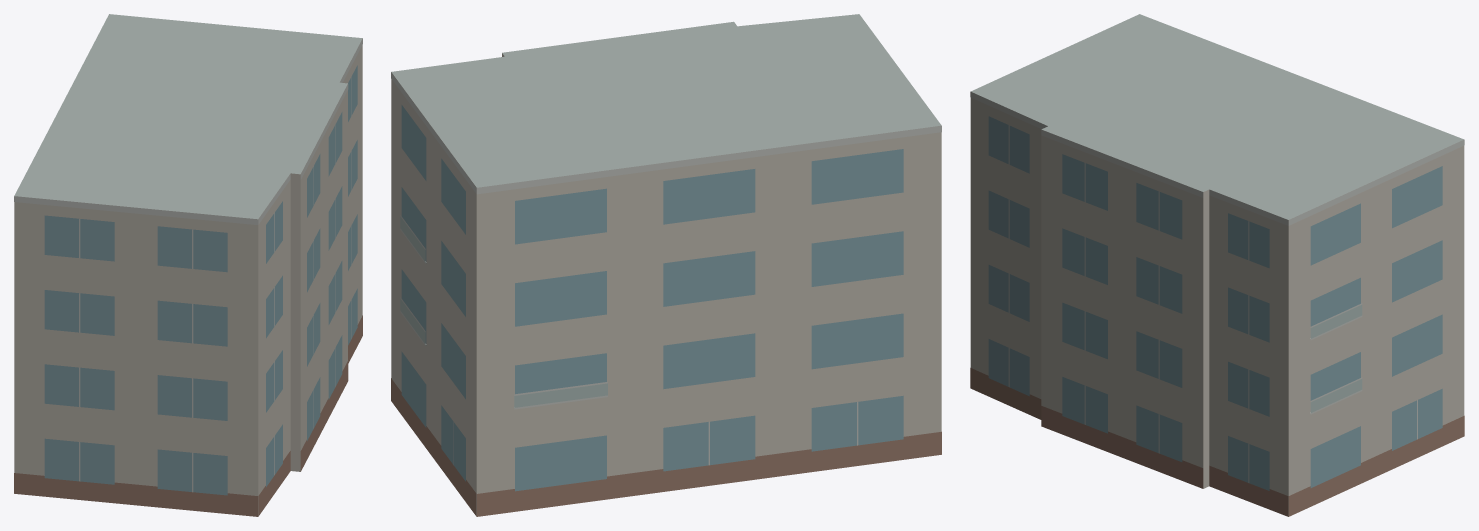
The model's file is survey-upis-32706008.glb.
3 views of the same model, side by side, from view 1: azimuth 30°, elevation 25°; view 2: azimuth 150°, elevation 25°; view 3: azimuth 270°, elevation 25° (orthographic). The views are drawn at different scales.
Visible parts, largest first — view 1: survey-upis-32706008.tmp; view 2: survey-upis-32706008.tmp; view 3: survey-upis-32706008.tmp.
Part boxes in pixels (x1,y1,x2,y2): survey-upis-32706008.tmp: (14,14,362,516); survey-upis-32706008.tmp: (391,14,941,516); survey-upis-32706008.tmp: (970,14,1464,516).
Bounding box in the file's own units: 18.17 × 12.2 × 18.4.
